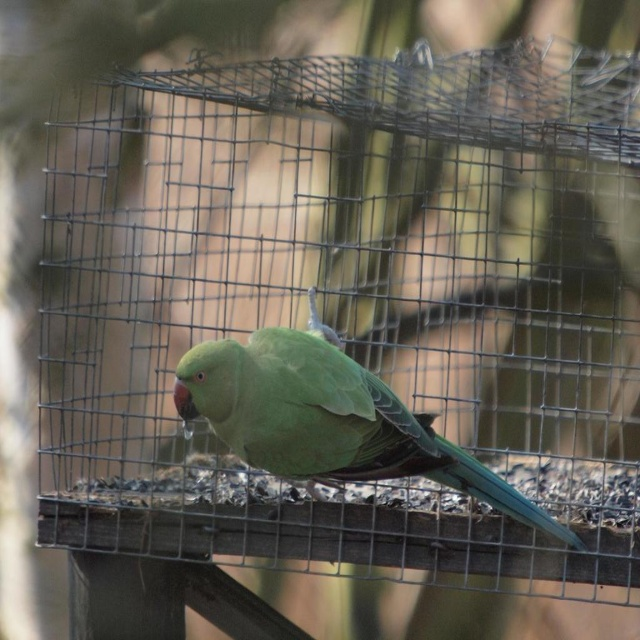Parrot: (174, 322, 590, 551)
